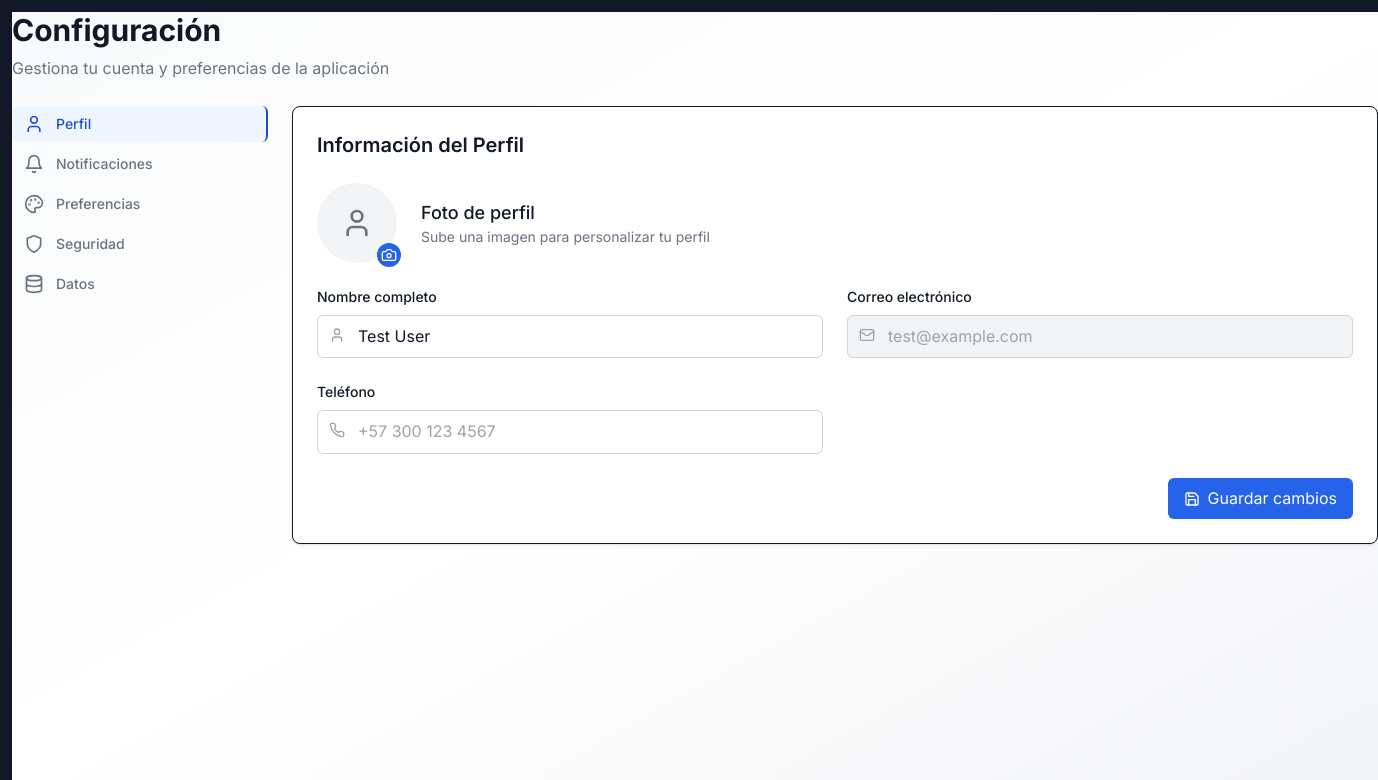
Test: SettingsPage › debe mostrar las opciones de datos
# Ir a la pestaña de Datos
Click the button "Datos" at (140, 284), box left=12, top=266, right=268, bottom=302
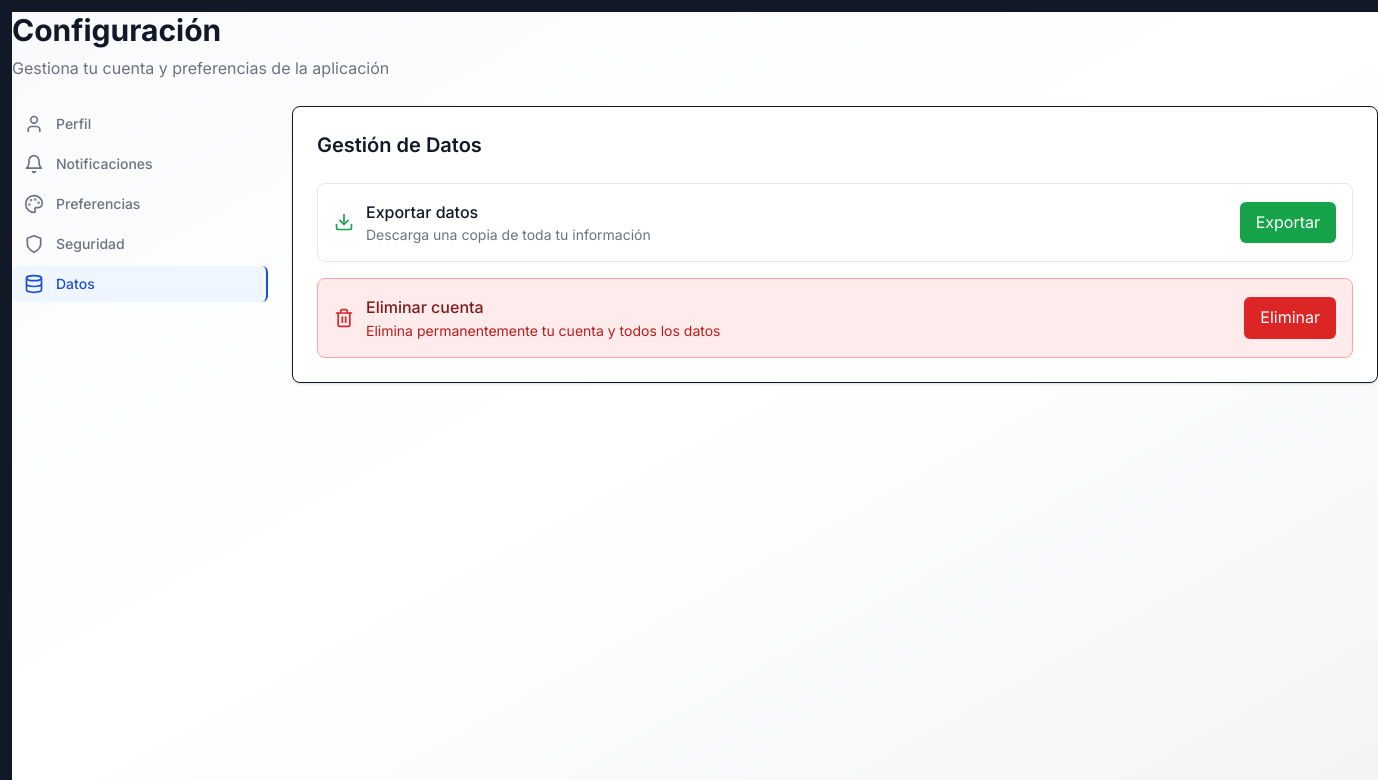
Expected: the heading "Exportar datos" is shown, left=366, top=202, right=478, bottom=222
Expected: the heading "Eliminar cuenta" is shown, left=366, top=297, right=484, bottom=317
